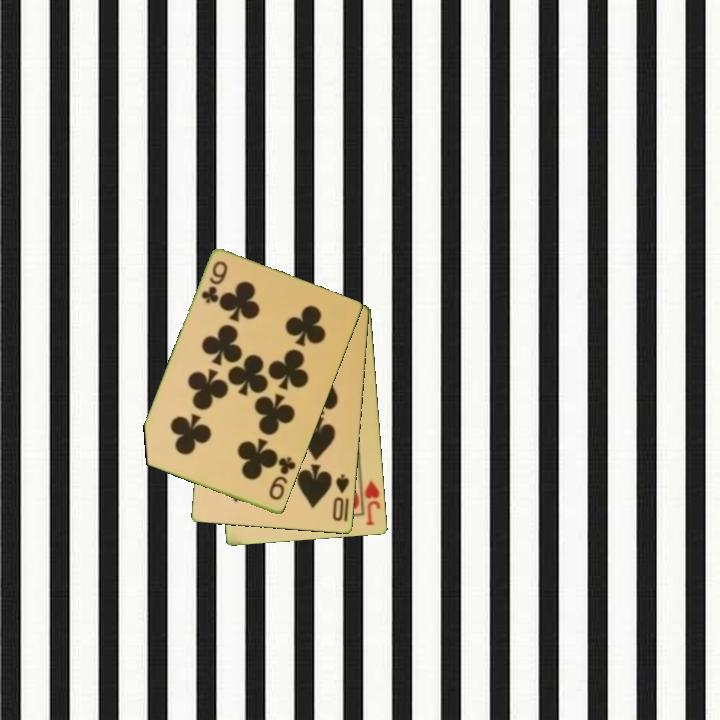10s: (329, 471, 352, 524)
9c: (265, 453, 299, 504), (198, 258, 231, 307)
Jh: (361, 477, 383, 529)
